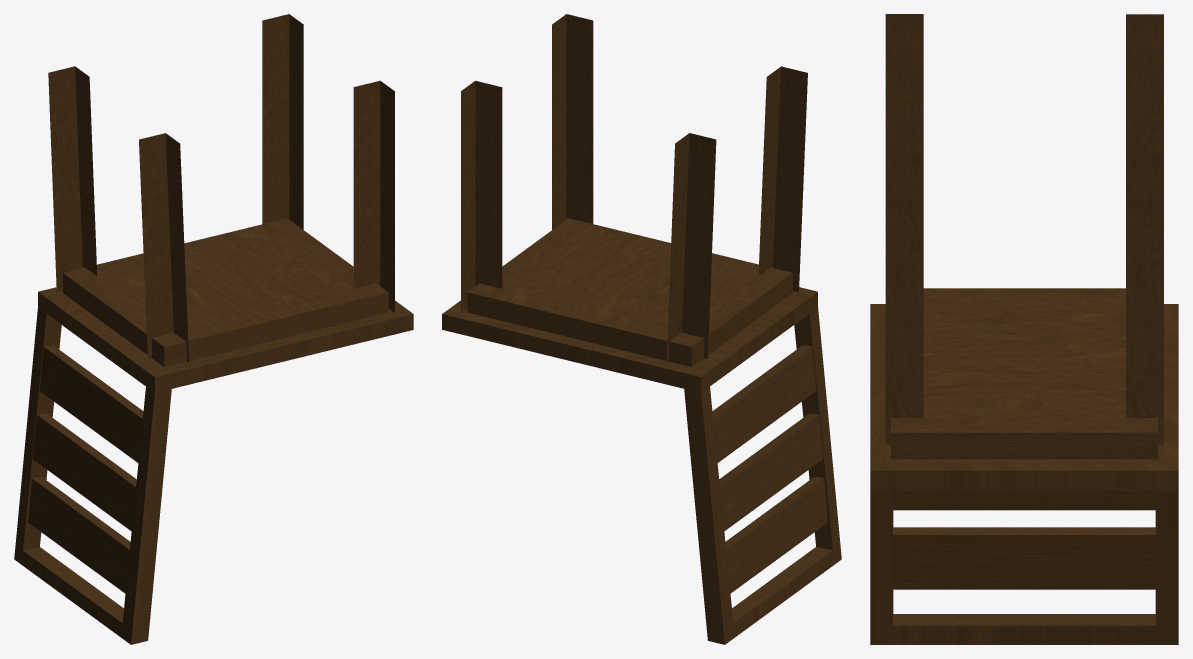
The model's file is finalDeskChair.fbx.
3 views of the same model, side by side, from view 1: azimuth 30°, elevation 25°; view 2: azimuth 150°, elevation 25°; view 3: azimuth 270°, elevation 25° (orthographic). The views are drawn at different scales.
Parts seen in each view (by area): view 1: Cube.002; view 2: Cube.002; view 3: Cube.002.
Part boxes in pixels (left/top/right/bottom): Cube.002: left=14, top=14, right=413, bottom=644; Cube.002: left=442, top=14, right=841, bottom=644; Cube.002: left=870, top=14, right=1178, bottom=644.
Bounding box in the file's own units: 60.04 × 98.18 × 43.
